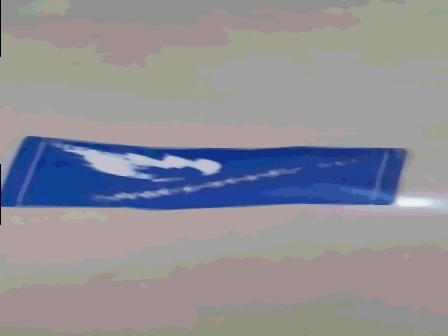dangerous-when-wet: (1, 144, 416, 210)
